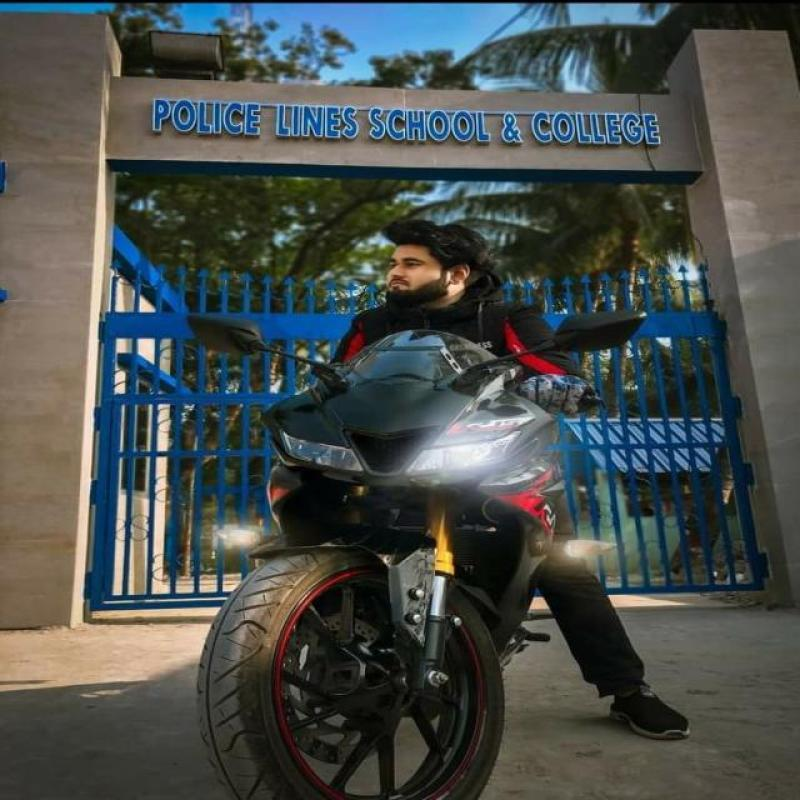nohelmet: (370, 222, 496, 316)
